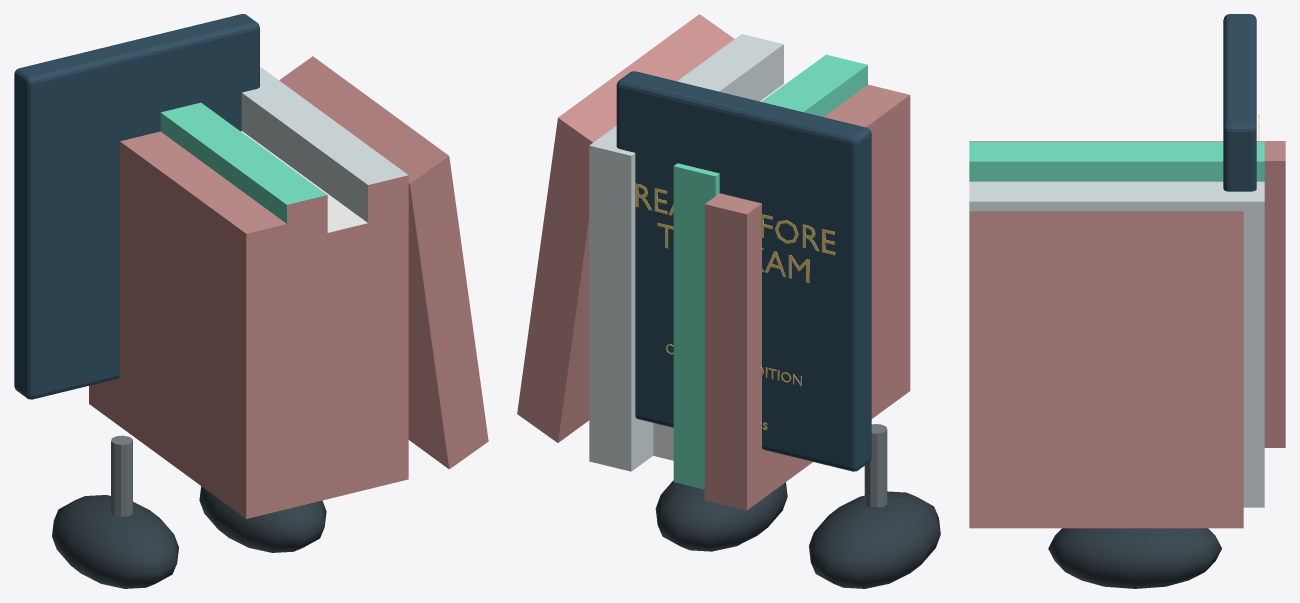
Rendered from book.glb.
The picture shows the model from 3 angles, left to right: view 1: azimuth 30°, elevation 25°; view 2: azimuth 150°, elevation 25°; view 3: azimuth 270°, elevation 25°; orthographic projection. The views are drawn at different scales.
Parts seen in each view (by area): view 1: books(Clone), Exam cover, Rubber foot.001, Rubber foot, Flexible leg.001; view 2: books(Clone), Exam cover, Rubber foot.001, Rubber foot, Read before exam, Flexible leg.001; view 3: books(Clone), Rubber foot, Exam cover.
Boxes of the visible parts, x1=… form: books(Clone): x1=89, y1=56, x2=488, y2=518; Exam cover: x1=14, y1=14, x2=259, y2=399; Rubber foot.001: x1=52, y1=495, x2=178, y2=588; Rubber foot: x1=199, y1=486, x2=326, y2=552; Flexible leg.001: x1=111, y1=435, x2=132, y2=516; books(Clone): x1=517, y1=14, x2=910, y2=510; Exam cover: x1=616, y1=71, x2=871, y2=471; Rubber foot.001: x1=809, y1=491, x2=940, y2=588; Rubber foot: x1=655, y1=480, x2=787, y2=551; Read before exam: x1=635, y1=183, x2=835, y2=282; Flexible leg.001: x1=864, y1=424, x2=887, y2=507; books(Clone): x1=969, y1=141, x2=1285, y2=528; Rubber foot: x1=1048, y1=528, x2=1221, y2=588; Exam cover: x1=1223, y1=14, x2=1256, y2=191.
Bounding box in the file's own units: 0.7697 × 1.03 × 0.6185.
